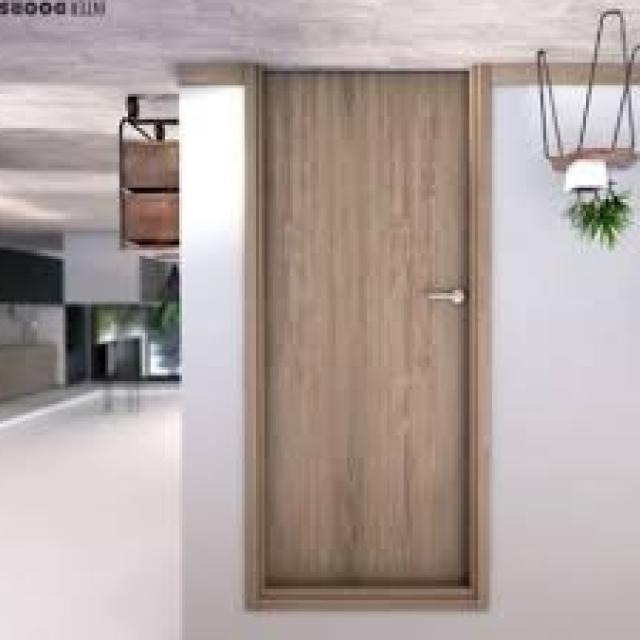door: (256, 68, 475, 603)
